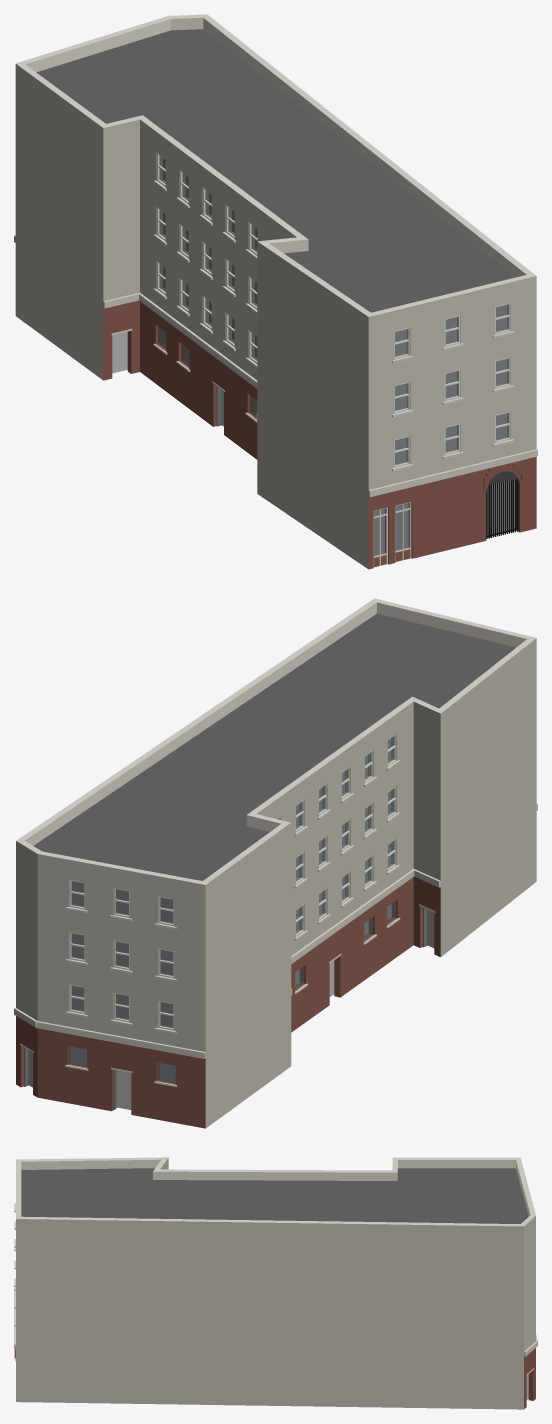
File: exterior.glb
3 views of the same model, one above another, from view 1: azimuth 30°, elevation 25°; view 2: azimuth 150°, elevation 25°; view 3: azimuth 270°, elevation 25° (orthographic). The views are drawn at different scales.
Parts seen in each view (by area): view 1: shell, roof, glazing, shadow-proxy, trim, frames, storefront; view 2: shell, roof, glazing, shadow-proxy, trim, frames, storefront; view 3: shell, roof, trim.
Part boxes in pixels (bbox=[...]): shell: bbox=[15, 14, 536, 569]; roof: bbox=[36, 29, 515, 312]; glazing: bbox=[158, 156, 508, 556]; shadow-proxy: bbox=[112, 158, 514, 555]; trim: bbox=[14, 180, 537, 497]; frames: bbox=[157, 153, 510, 467]; storefront: bbox=[111, 329, 518, 567]; shell: bbox=[16, 598, 536, 1128]; roof: bbox=[33, 613, 515, 880]; glazing: bbox=[68, 736, 395, 1083]; shadow-proxy: bbox=[28, 739, 434, 1109]; trim: bbox=[14, 760, 537, 1087]; frames: bbox=[69, 734, 396, 1030]; storefront: bbox=[20, 904, 435, 1109]; shell: bbox=[16, 1157, 535, 1409]; roof: bbox=[21, 1168, 528, 1223]; trim: bbox=[14, 1203, 537, 1356].
Size of the model in its own units: 10.38 by 12.77 by 33.12.
